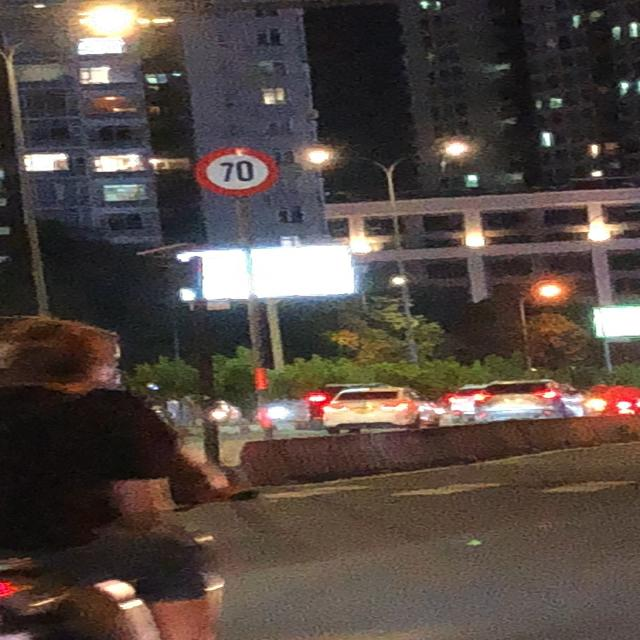Bien bao toc do toi da cho phep: (178, 142, 284, 196)
